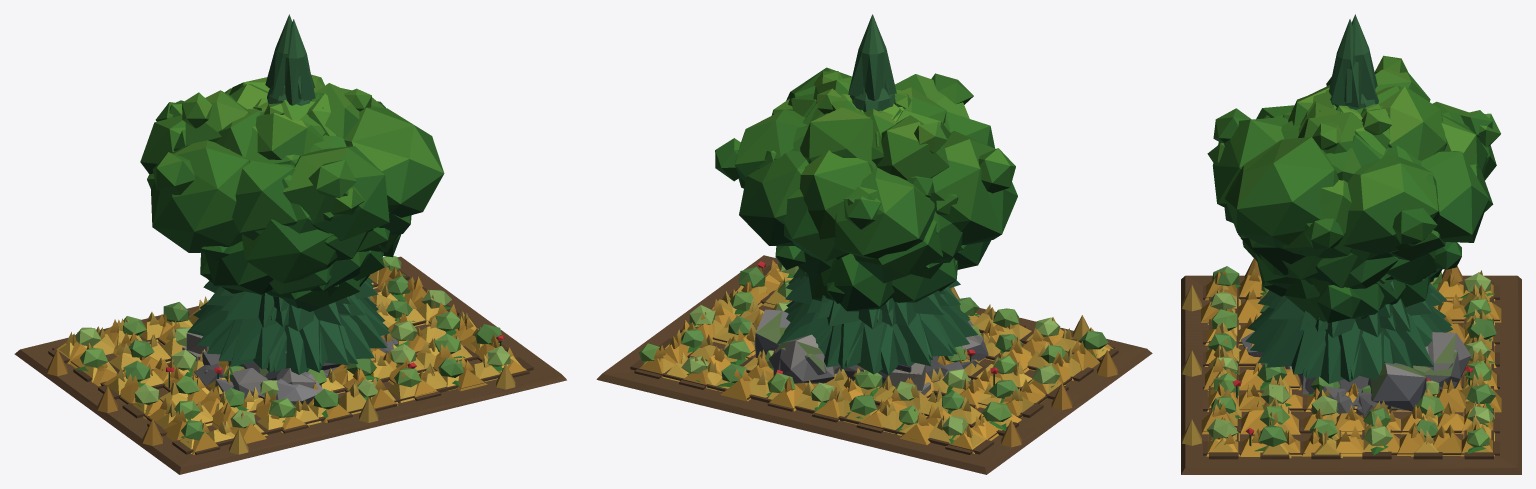
Rendered from env_kit.fbx.
The picture shows the model from 3 angles, left to right: view 1: azimuth 30°, elevation 25°; view 2: azimuth 150°, elevation 25°; view 3: azimuth 270°, elevation 25°; orthographic projection. The views are drawn at different scales.
Parts seen in each view (by area): view 1: farm_field_cabbage_03, tree_oak_03, farm_field_wheat_02, tree_oak_08, farm_field_wheat_01, tree_oak_06, tree_pine_04, tree_pine_02, tree_oak_04, tree_pine_05, tree_pine_06, tree_oak_05 (+7 smaller); view 2: farm_field_cabbage_03, tree_oak_08, farm_field_wheat_02, tree_oak_03, farm_field_wheat_01, tree_oak_05, tree_pine_04, tree_oak_07, tree_pine_05, tree_oak_06, tree_pine_06, tree_oak_01 (+7 smaller); view 3: tree_oak_03, farm_field_wheat_02, farm_field_cabbage_03, tree_oak_01, farm_field_wheat_01, tree_oak_08, tree_pine_04, tree_oak_02, tree_oak_05, tree_pine_02, tree_oak_04, tree_pine_06 (+9 smaller).
Part boxes in pixels (left/top/right/bottom): farm_field_cabbage_03: left=21, top=256, right=566, bottom=474; tree_oak_03: left=173, top=83, right=444, bottom=240; farm_field_wheat_02: left=14, top=259, right=565, bottom=474; tree_oak_08: left=140, top=77, right=411, bottom=252; farm_field_wheat_01: left=59, top=270, right=521, bottom=454; tree_oak_06: left=201, top=83, right=389, bottom=294; tree_pine_04: left=187, top=14, right=387, bottom=372; tree_pine_02: left=219, top=19, right=385, bottom=374; tree_oak_04: left=269, top=100, right=398, bottom=294; tree_pine_05: left=193, top=85, right=388, bottom=372; tree_pine_06: left=197, top=299, right=389, bottom=369; tree_oak_05: left=147, top=88, right=333, bottom=221; farm_field_cabbage_03: left=596, top=255, right=1150, bottom=474; tree_oak_08: left=738, top=107, right=1017, bottom=261; farm_field_wheat_02: left=598, top=258, right=1152, bottom=471; tree_oak_03: left=715, top=67, right=994, bottom=245; farm_field_wheat_01: left=642, top=264, right=1110, bottom=447; tree_oak_05: left=799, top=115, right=958, bottom=283; tree_pine_04: left=777, top=14, right=977, bottom=369; tree_oak_07: left=798, top=109, right=957, bottom=311; tree_pine_05: left=785, top=272, right=960, bottom=375; tree_oak_06: left=807, top=93, right=990, bottom=269; tree_pine_06: left=784, top=301, right=970, bottom=374; tree_oak_01: left=758, top=85, right=905, bottom=279; tree_oak_03: left=1212, top=87, right=1489, bottom=254; farm_field_wheat_02: left=1181, top=258, right=1506, bottom=474; farm_field_cabbage_03: left=1181, top=266, right=1521, bottom=474; tree_oak_01: left=1224, top=105, right=1461, bottom=285; farm_field_wheat_01: left=1182, top=270, right=1494, bottom=458; tree_oak_08: left=1249, top=76, right=1500, bottom=274; tree_pine_04: left=1247, top=14, right=1452, bottom=382; tree_oak_02: left=1257, top=89, right=1442, bottom=322; tree_oak_05: left=1305, top=55, right=1487, bottom=287; tree_pine_02: left=1257, top=19, right=1440, bottom=383; tree_oak_04: left=1207, top=91, right=1394, bottom=288; tree_pine_06: left=1245, top=296, right=1446, bottom=380.
Bounding box in the file's own units: 38.1 × 33.46 × 28.
